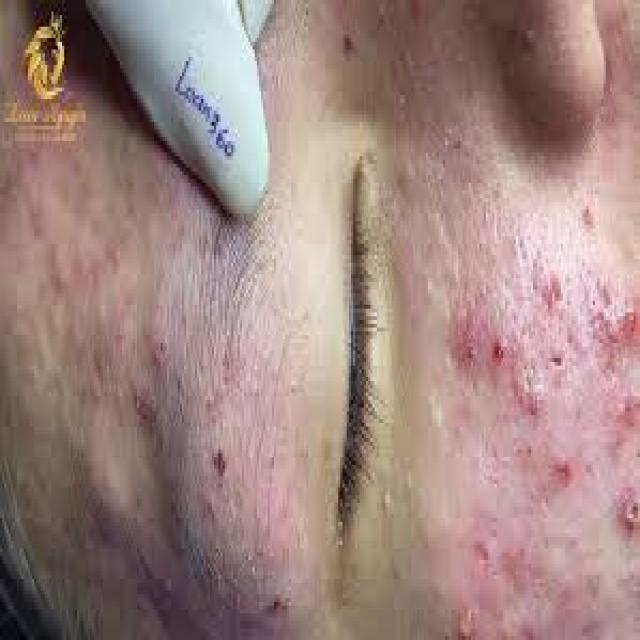Acne: (462, 512, 544, 594), (590, 268, 640, 363), (453, 304, 513, 382), (608, 468, 640, 544), (545, 433, 580, 501), (605, 374, 640, 440), (452, 595, 482, 640)
